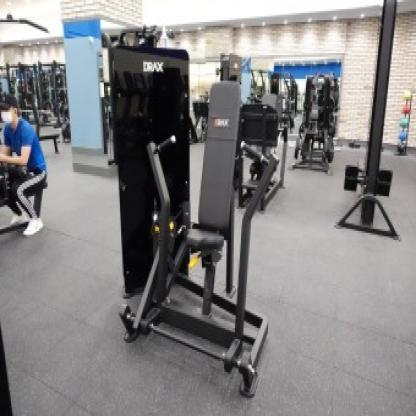Chest Press machine: (100, 40, 294, 400)
